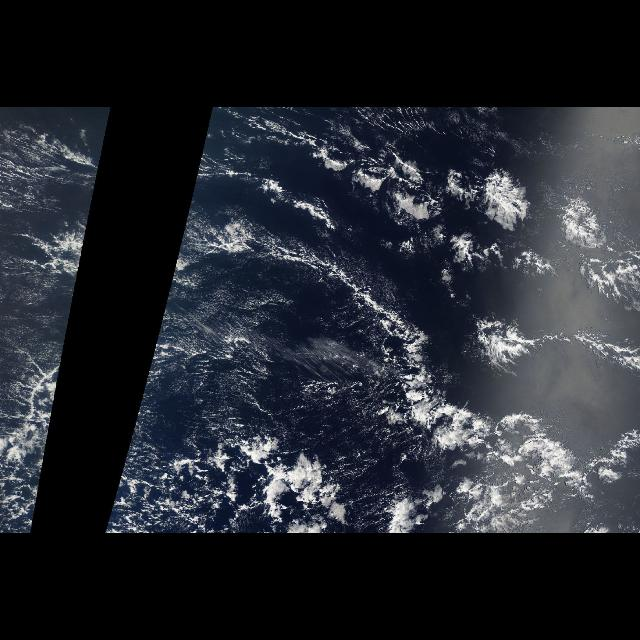Fish: (218, 215, 606, 501)
Flower: (314, 132, 632, 366)
Gravel: (108, 403, 260, 522), (2, 403, 56, 522)
Sugar: (141, 112, 317, 434), (2, 112, 112, 400)
